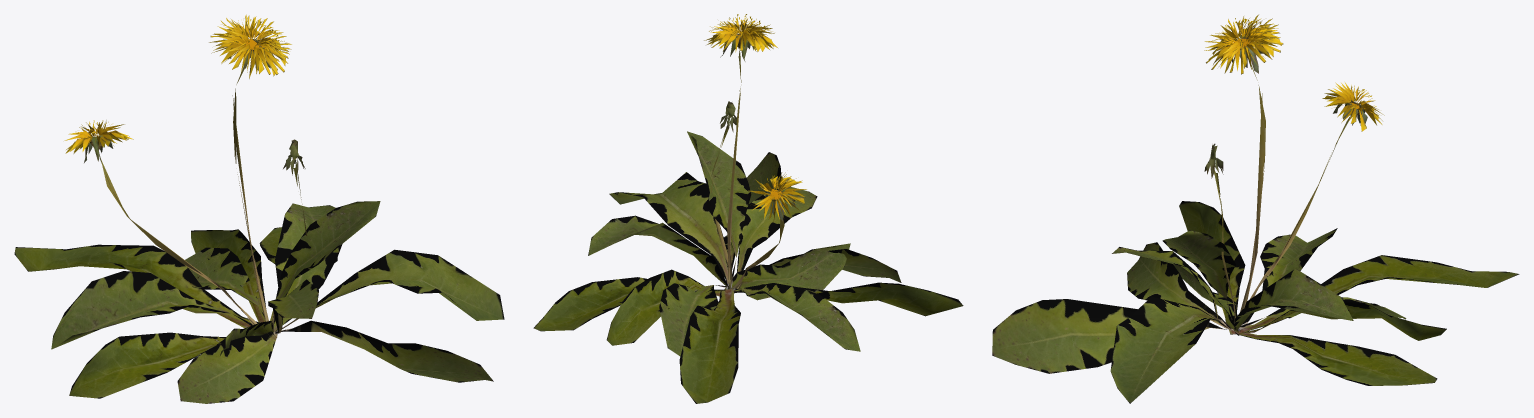
Rendered from dandelion_01_v1.glb.
3 renders of one model, left to right at view 1: azimuth 30°, elevation 25°; view 2: azimuth 150°, elevation 25°; view 3: azimuth 270°, elevation 25°, orthographic. The views are drawn at different scales.
Parts seen in each view (by area): view 1: lod0; view 2: lod0; view 3: lod0.
Boxes of the visible parts, x1,y1,x2,y2 form: lod0: [14, 14, 504, 403]; lod0: [533, 14, 963, 403]; lod0: [992, 14, 1519, 403].
Size of what is drawn, in the model's own units: 0.2218 by 0.1638 by 0.2537.
Materials: 1 (1 with a texture image).
